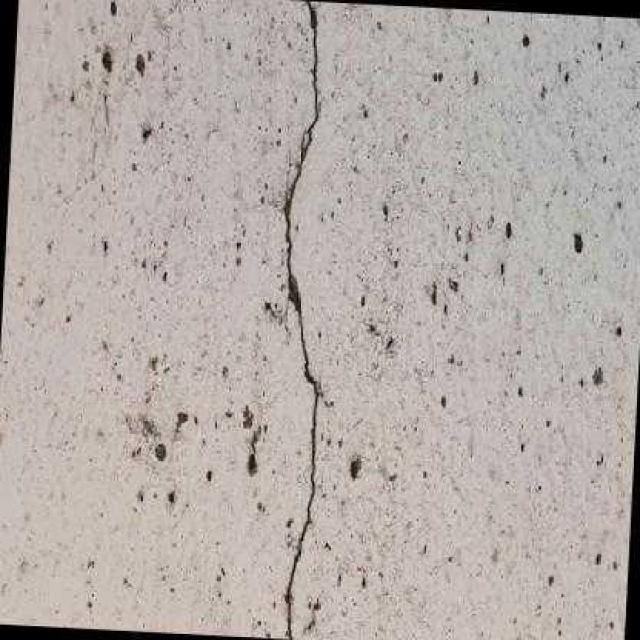D00: (279, 0, 319, 639)
